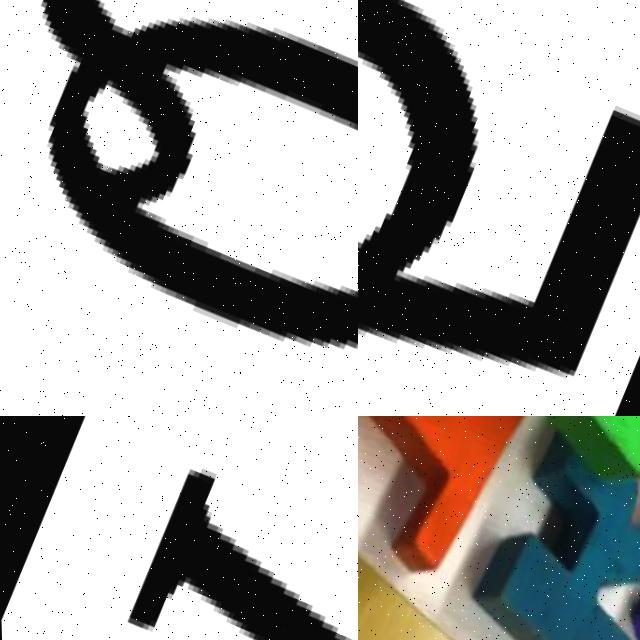5: (358, 0, 640, 416)
C: (479, 416, 640, 524)
I: (358, 416, 574, 598)
K: (13, 416, 358, 640), (436, 416, 640, 640)
Q: (0, 0, 358, 416)
